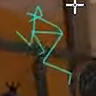hacks_2: (16, 5, 73, 86)
